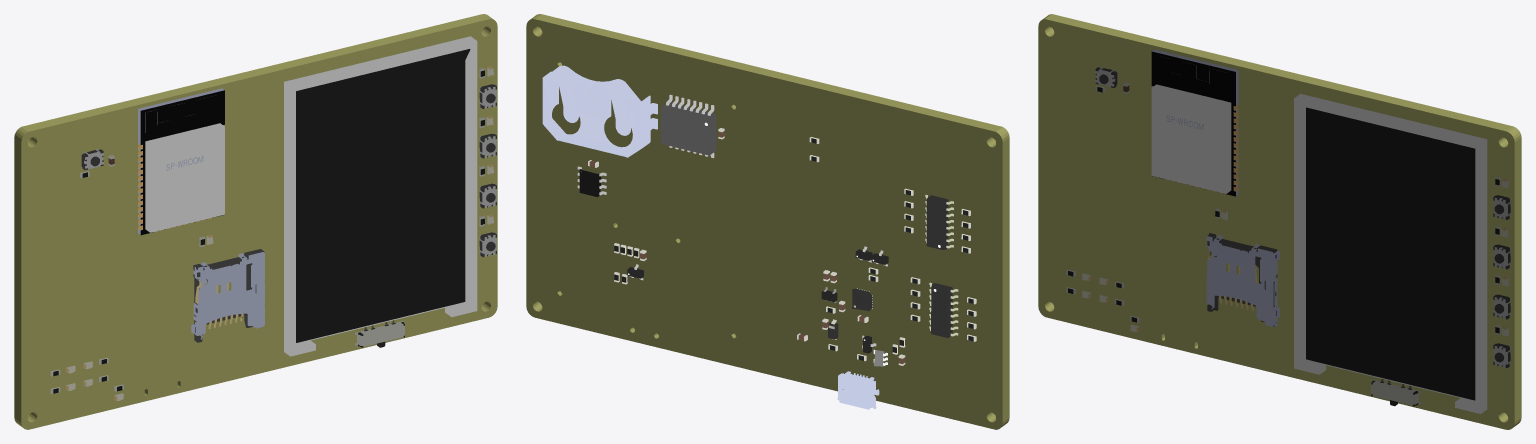
3 views of the same model, side by side, from view 1: azimuth 30°, elevation 25°; view 2: azimuth 150°, elevation 25°; view 3: azimuth 330°, elevation 25° (orthographic).
Bounding box in the file's own units: 399 × 242 × 39.45.
